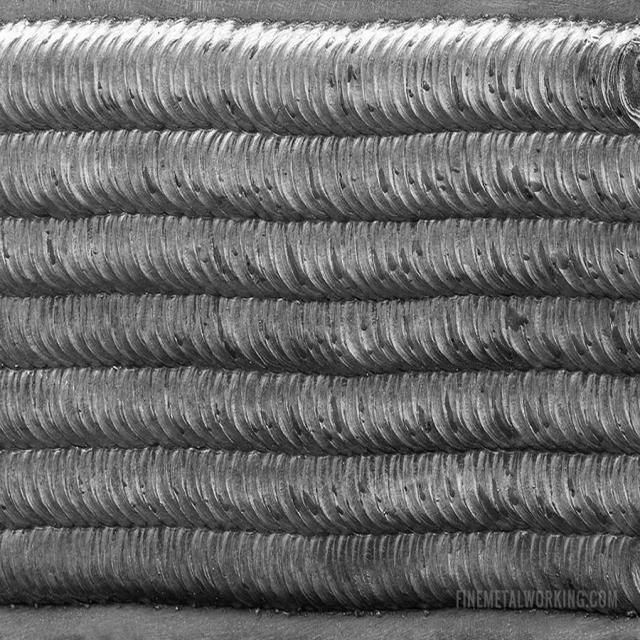Good Weld: (1, 19, 640, 615)
